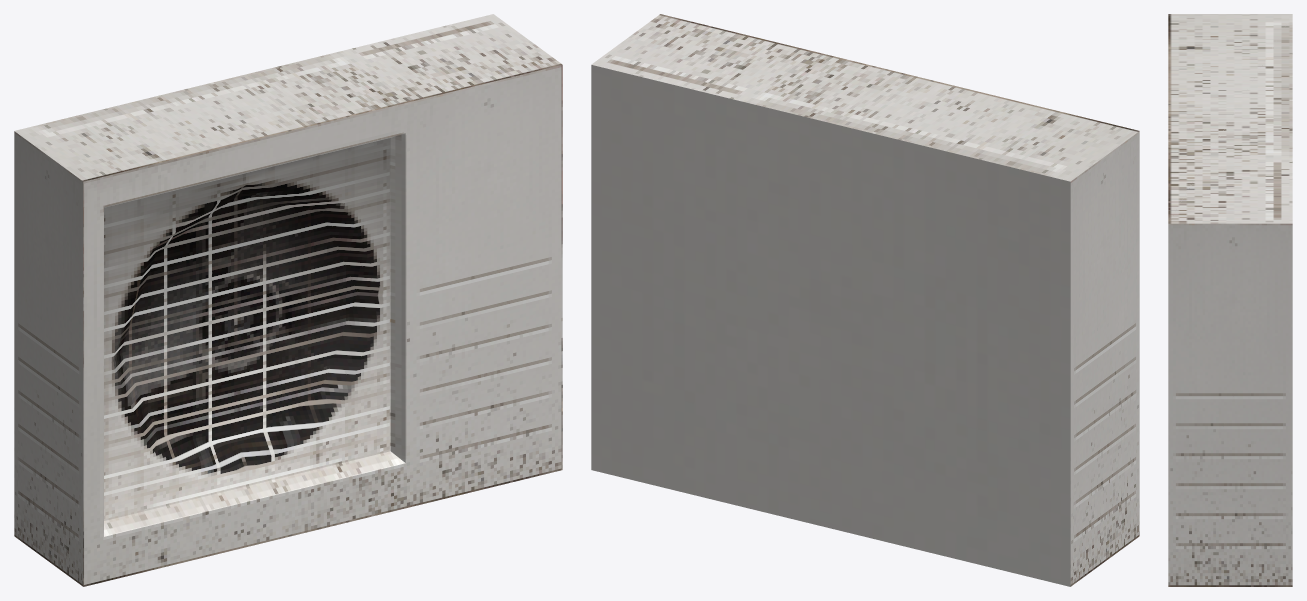
Rendered from Maquina_de_Viento.fbx.
3 views of the same model, side by side, from view 1: azimuth 30°, elevation 25°; view 2: azimuth 150°, elevation 25°; view 3: azimuth 270°, elevation 25° (orthographic). The views are drawn at different scales.
Parts seen in each view (by area): view 1: Cube; view 2: Cube; view 3: Cube.
Part boxes in pixels (box(x1,y1,x2,y2)): Cube: box(14, 14, 562, 586); Cube: box(591, 14, 1139, 586); Cube: box(1168, 14, 1292, 586).
Bounding box in the file's own units: 916 × 740 × 229.
1 material, 1 textured.
